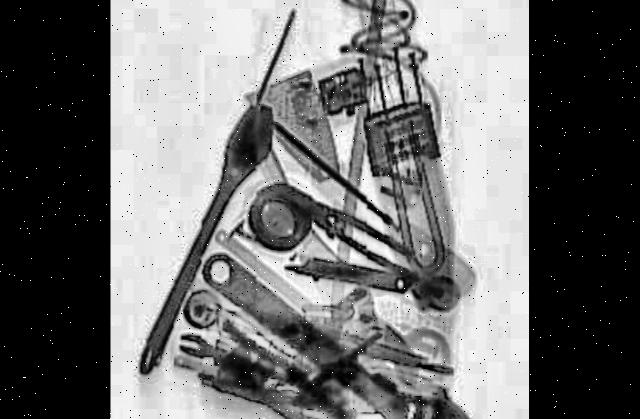Pliers: (195, 297, 407, 419), (288, 178, 423, 286)
Wrench: (188, 208, 484, 419), (176, 324, 233, 367)
